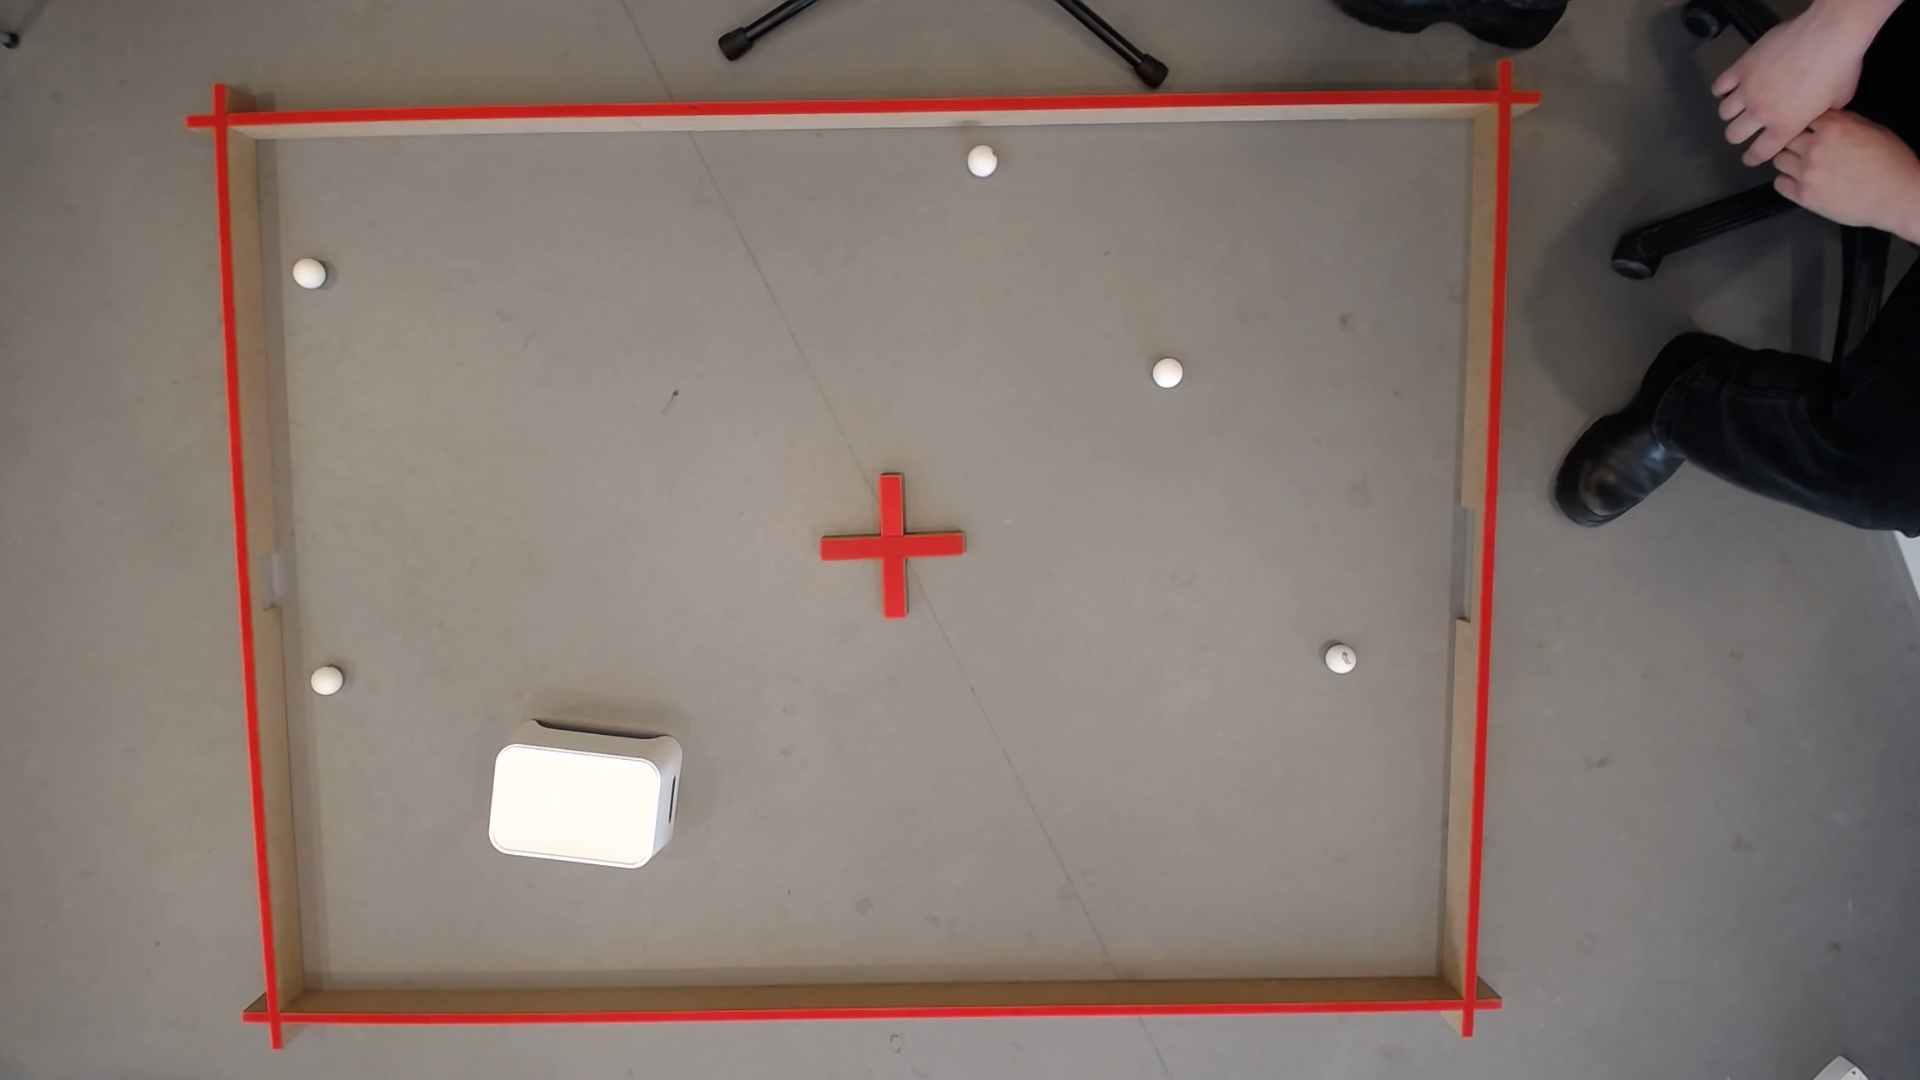balls: (964, 145, 1000, 181), (1149, 356, 1184, 392), (289, 258, 324, 293), (306, 666, 342, 699)
car: (1323, 650, 1356, 676)
